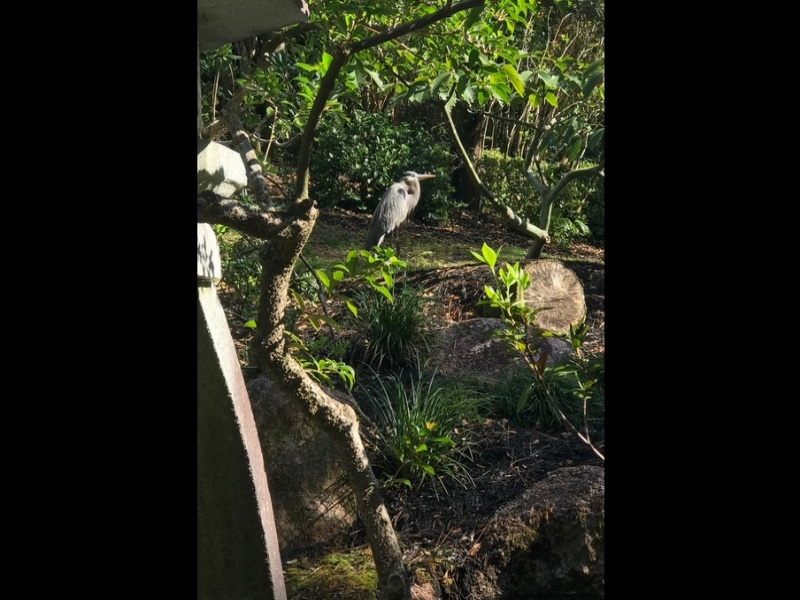heron: (369, 167, 436, 254)
